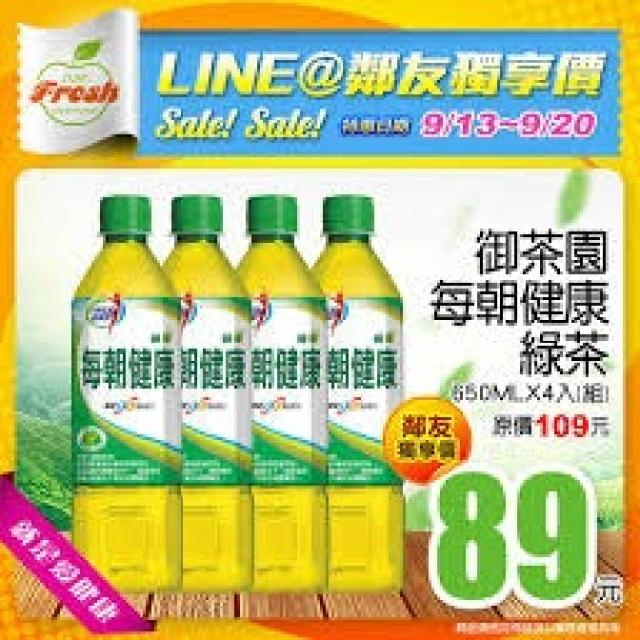MeiChou_GreenTea: (72, 188, 185, 592), (304, 188, 408, 590), (229, 192, 326, 592), (168, 185, 250, 586)
